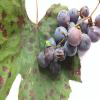grape leaf black rot: (0, 4, 39, 99)
